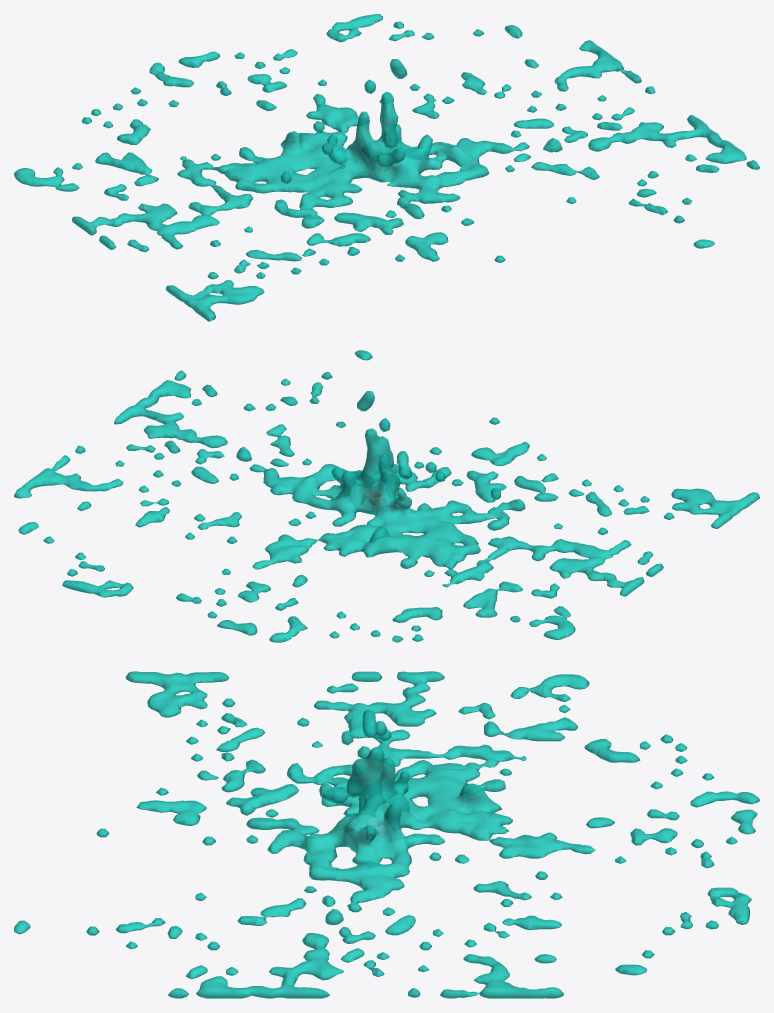
The picture shows the model from 3 angles, top to bottom: view 1: azimuth 30°, elevation 25°; view 2: azimuth 150°, elevation 25°; view 3: azimuth 270°, elevation 25°; orthographic projection. The views are drawn at different scales.
Visible parts, largest first — view 1: Liquid_Domain; view 2: Liquid_Domain; view 3: Liquid_Domain.
Boxes of the visible parts, x1,y1,x2,y2 form: Liquid_Domain: [14, 14, 759, 321]; Liquid_Domain: [14, 350, 759, 642]; Liquid_Domain: [14, 671, 759, 998].
Size of the model in its own units: 12.43 by 2.43 by 12.2.
